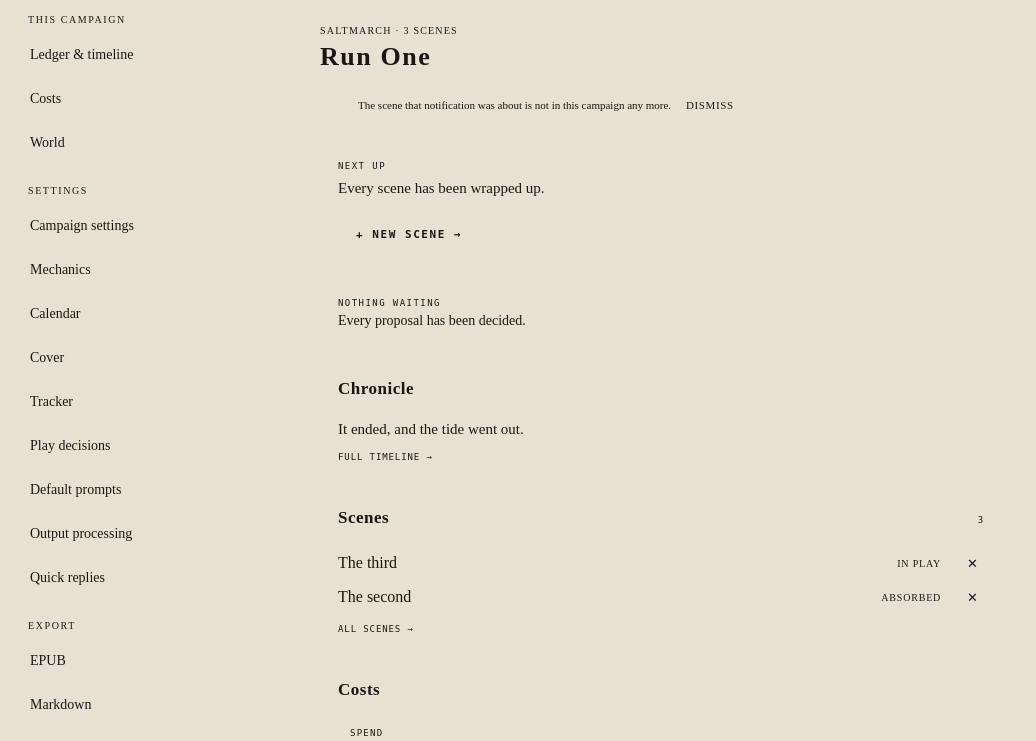
Test: a notification whose scene is gone says so once on arrival
Check: the text "that notification was about is not in this campaign" is shown, box [358,99,671,111]
Click the button "Dismiss".
click(710, 105)  # box [674,93,746,117]
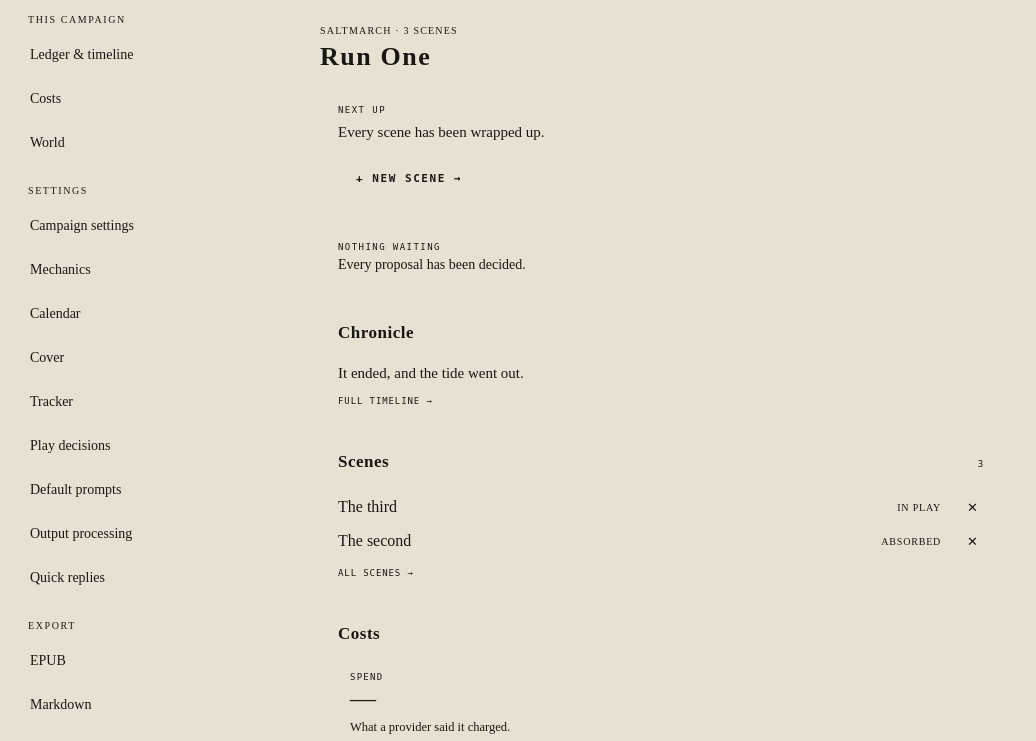
Check: the text "that notification was about" is gone
